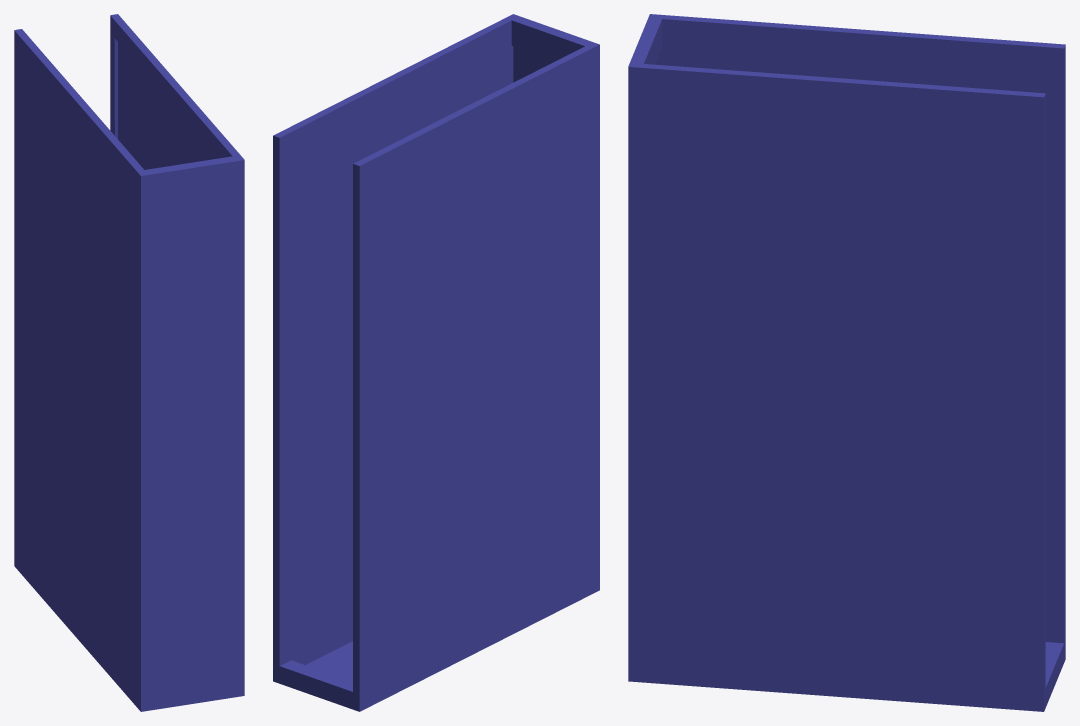
The model's file is book.003_material.011_0_lev1.glb.
3 renders of one model, left to right at view 1: azimuth 30°, elevation 25°; view 2: azimuth 150°, elevation 25°; view 3: azimuth 270°, elevation 25°, orthographic. The views are drawn at different scales.
Parts seen in each view (by area): view 1: book.003_material.011_0_lev1; view 2: book.003_material.011_0_lev1; view 3: book.003_material.011_0_lev1.
Boxes of the visible parts, x1=… form: book.003_material.011_0_lev1: x1=14, y1=14, x2=244, y2=711; book.003_material.011_0_lev1: x1=273, y1=14, x2=599, y2=711; book.003_material.011_0_lev1: x1=628, y1=14, x2=1065, y2=711.
Size of the model in its own units: 4.7 by 16.14 by 10.42.
